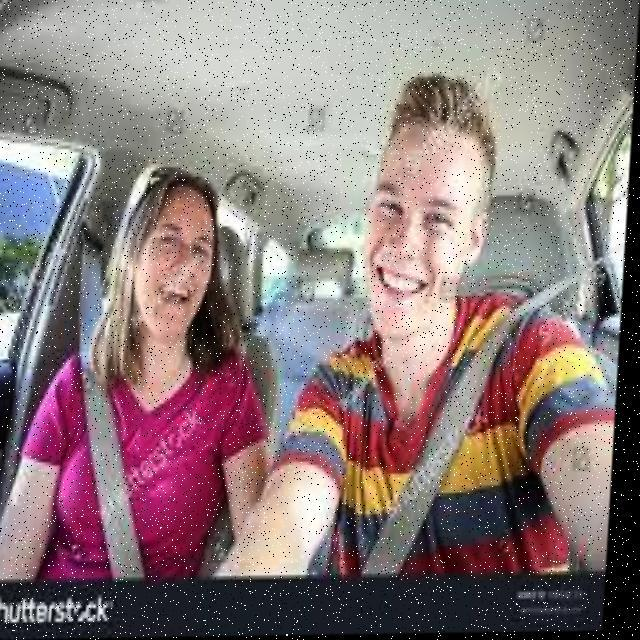seatbelt: (342, 284, 572, 576), (64, 339, 236, 582)
